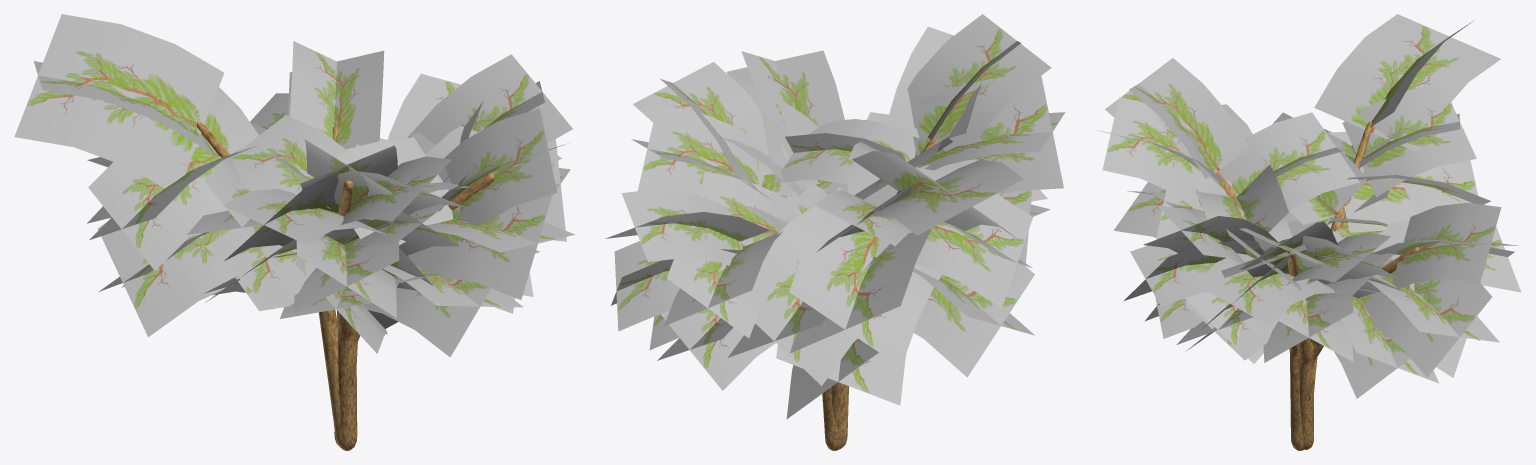
The model's file is SabannaWood_01.fbx.
3 views of the same model, side by side, from view 1: azimuth 30°, elevation 25°; view 2: azimuth 150°, elevation 25°; view 3: azimuth 270°, elevation 25° (orthographic). The views are drawn at different scales.
Visible parts, largest first — view 1: SabannaWood_01; view 2: SabannaWood_01; view 3: SabannaWood_01.
Boxes of the visible parts, x1,y1,x2,y2 form: SabannaWood_01: (14, 14, 574, 450); SabannaWood_01: (605, 14, 1065, 450); SabannaWood_01: (1099, 14, 1521, 450).
Bounding box in the file's own units: 1103 × 913 × 999.
